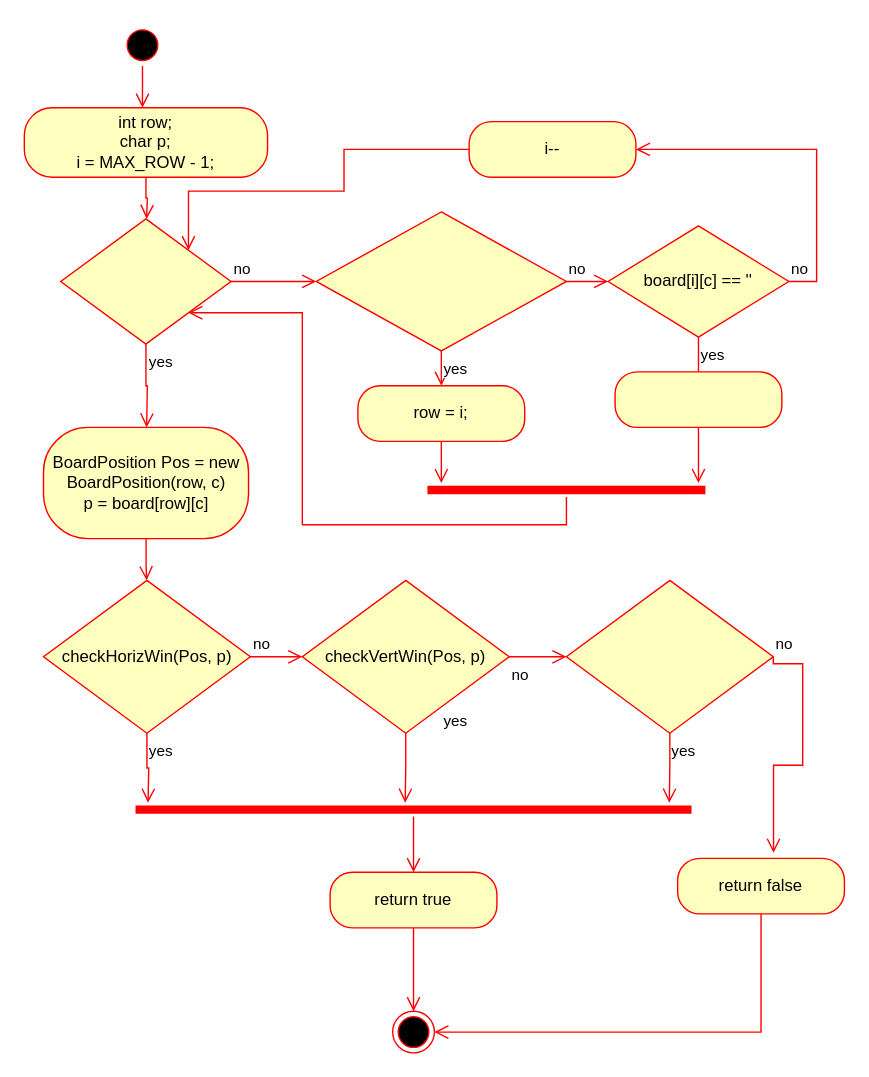
Image size: 869x1077. Some labels were removed from this diagram. Here are the shapes that lost their labels. From the top down, the centre of each, then its label:
At point (145, 281): "i < 0".
At point (440, 281): "i == 0".
At point (698, 398): "row = i + 1;".
At point (669, 656): "checkDiagWin(Pos, p)".
